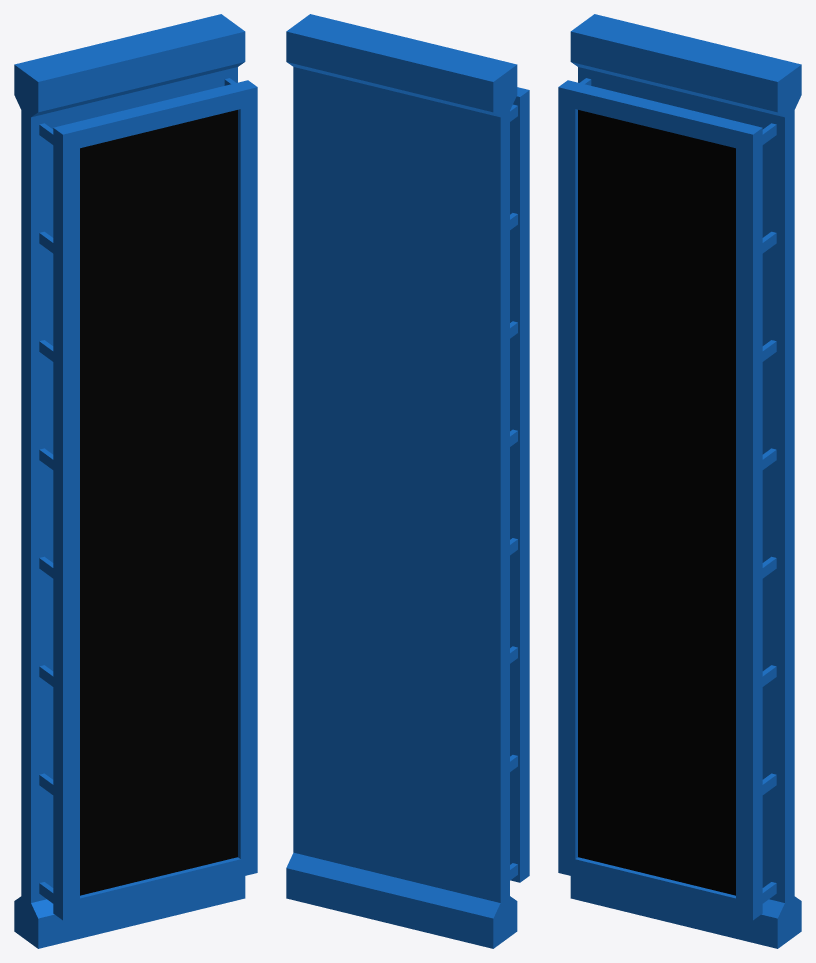
Rendered from SM_wall.fbx.
3 renders of one model, left to right at view 1: azimuth 30°, elevation 25°; view 2: azimuth 150°, elevation 25°; view 3: azimuth 330°, elevation 25°, orthographic.
Visible parts, largest first — view 1: wall; view 2: wall; view 3: wall.
Part boxes in pixels (x1=…): wall: x1=14, y1=14, x2=257, y2=948; wall: x1=286, y1=14, x2=529, y2=948; wall: x1=558, y1=14, x2=801, y2=948.
Size of the model in its own units: 100 by 400 by 35.49.
